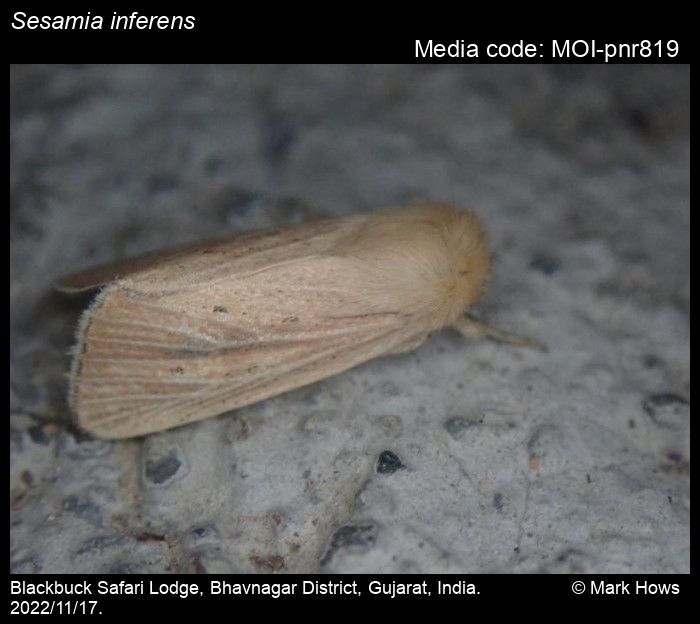Noctuidae: (53, 198, 544, 440)
